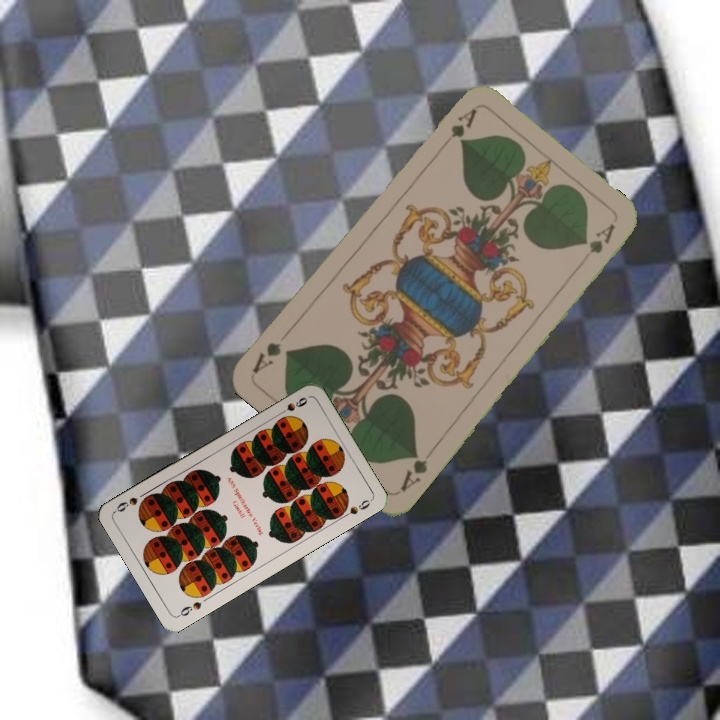GA: (435, 104, 480, 151), (396, 448, 430, 494)
S9: (273, 393, 310, 419), (174, 597, 204, 620)
